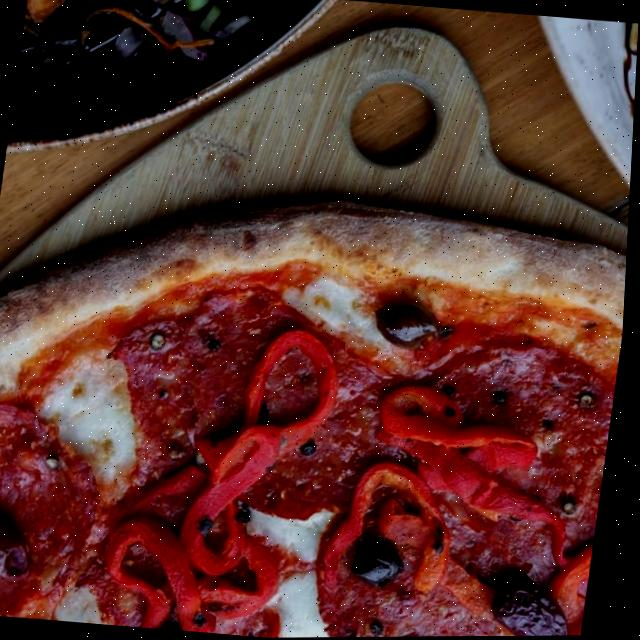black_olives: (493, 574, 582, 637), (376, 297, 445, 349), (356, 532, 412, 586), (0, 512, 44, 578)
pizza: (0, 167, 633, 640)
